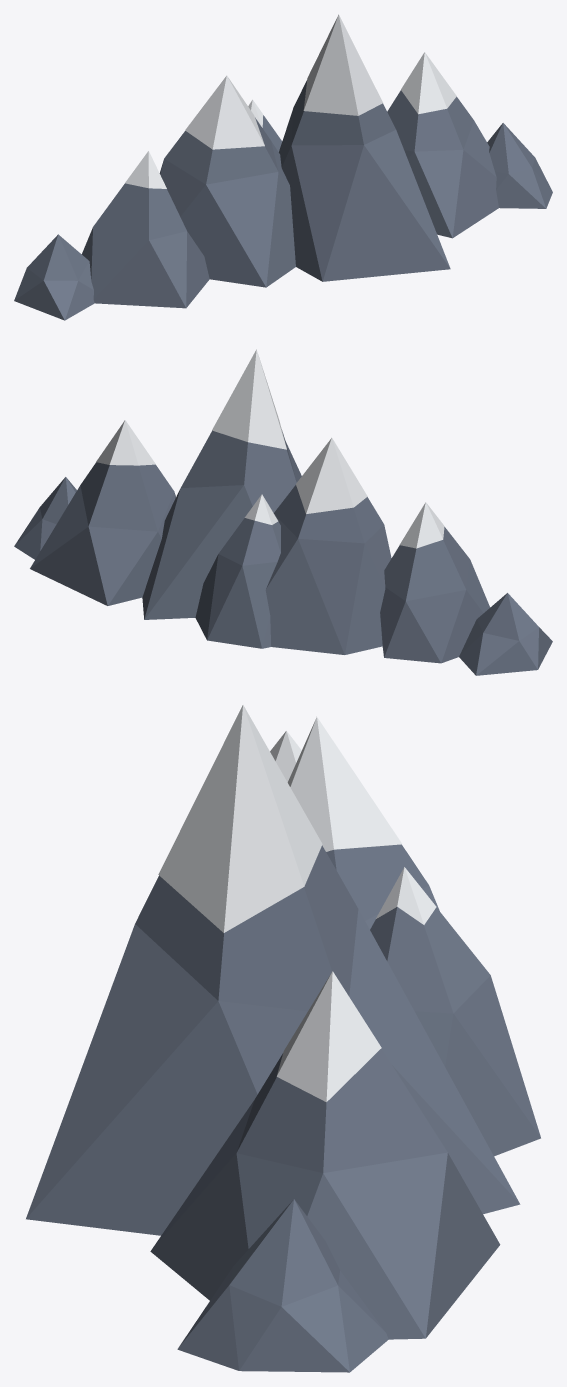
Rendered from Mountains2.fbx.
3 views of the same model, one above another, from view 1: azimuth 30°, elevation 25°; view 2: azimuth 150°, elevation 25°; view 3: azimuth 270°, elevation 25° (orthographic). The views are drawn at different scales.
Parts seen in each view (by area): view 1: Mountain, Snow; view 2: Mountain, Snow; view 3: Mountain, Snow.
Part boxes in pixels (x1=…): Mountain: x1=14, y1=80, x2=552, y2=320; Snow: x1=125, y1=14, x2=456, y2=188; Mountain: x1=14, y1=430, x2=552, y2=675; Snow: x1=96, y1=349, x2=444, y2=548; Mountain: x1=26, y1=844, x2=540, y2=1372; Snow: x1=158, y1=705, x2=436, y2=1102.
Bounding box in the file's own units: 190 × 80.36 × 81.9.
